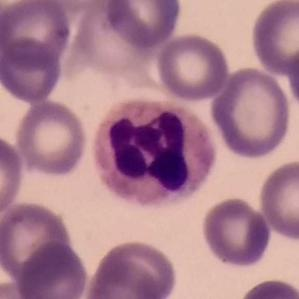Neutrophil: (82, 89, 219, 211)
RBC: (208, 65, 294, 161), (0, 199, 75, 287), (71, 2, 156, 79), (14, 98, 90, 178), (83, 237, 180, 299), (154, 31, 232, 103), (200, 195, 273, 269), (0, 0, 73, 68), (15, 240, 90, 299), (0, 38, 65, 105), (103, 0, 183, 50), (248, 0, 299, 77), (256, 158, 299, 241), (0, 131, 26, 220), (235, 276, 299, 299), (285, 39, 299, 117), (0, 277, 45, 298), (0, 0, 12, 60)
